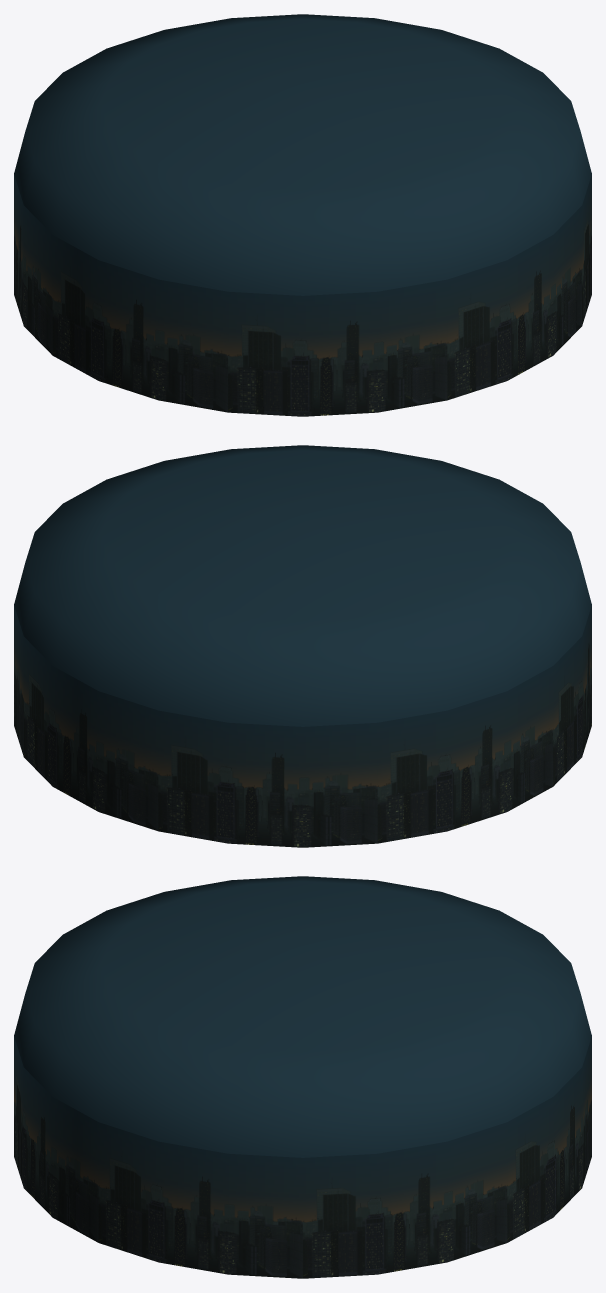
The model's file is stage.fbx.
3 renders of one model, top to bottom at view 1: azimuth 30°, elevation 25°; view 2: azimuth 150°, elevation 25°; view 3: azimuth 270°, elevation 25°, orthographic.
Visible parts, largest first — view 1: bg; view 2: bg; view 3: bg.
Part boxes in pixels (x1,y1,x2,y2): bg: [14, 14, 591, 416]; bg: [14, 445, 591, 847]; bg: [14, 876, 591, 1278].
Size of the model in its own units: 10032 by 5547 by 10032.
